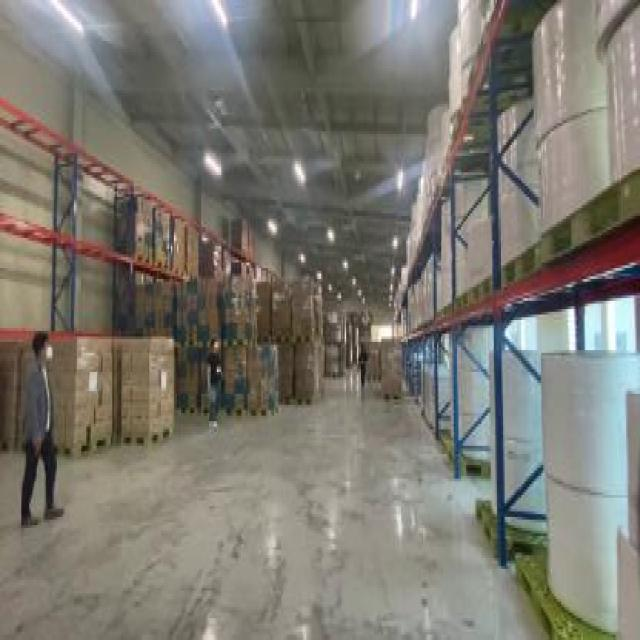box: (108, 273, 274, 435), (0, 342, 114, 457), (249, 274, 325, 411), (115, 197, 203, 282), (114, 339, 172, 443), (196, 224, 227, 290), (232, 216, 266, 265), (325, 314, 346, 378)
person: (25, 331, 66, 522), (205, 342, 220, 432), (354, 342, 366, 396), (377, 331, 391, 372)
white_roll: (532, 345, 638, 637), (530, 11, 638, 246), (489, 350, 565, 566), (449, 326, 506, 504), (488, 104, 546, 265), (437, 183, 494, 298), (420, 348, 455, 452), (414, 96, 449, 186), (455, 2, 494, 66), (449, 19, 471, 123), (406, 178, 428, 252)
